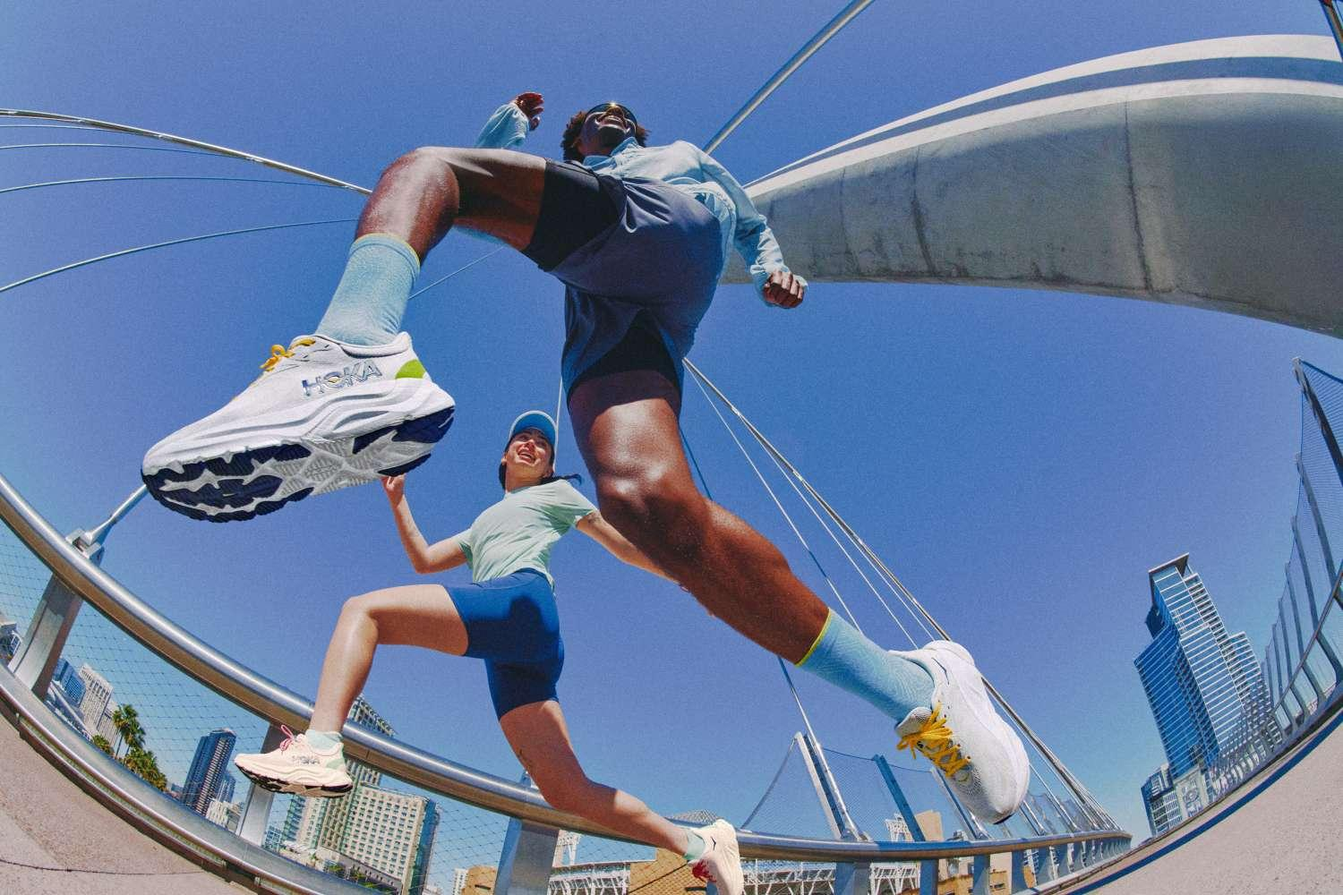hoka logo: (269, 348, 408, 408), (280, 748, 331, 777)
